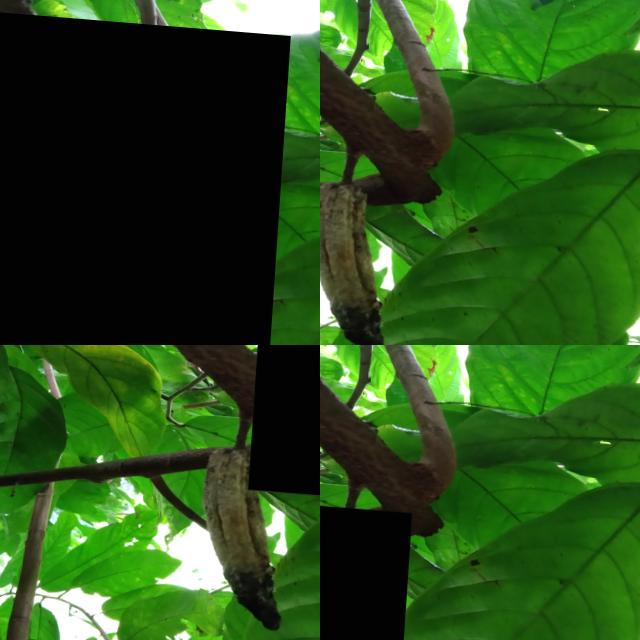Monilia: (320, 500, 416, 640)
Sana: (0, 10, 292, 345)
